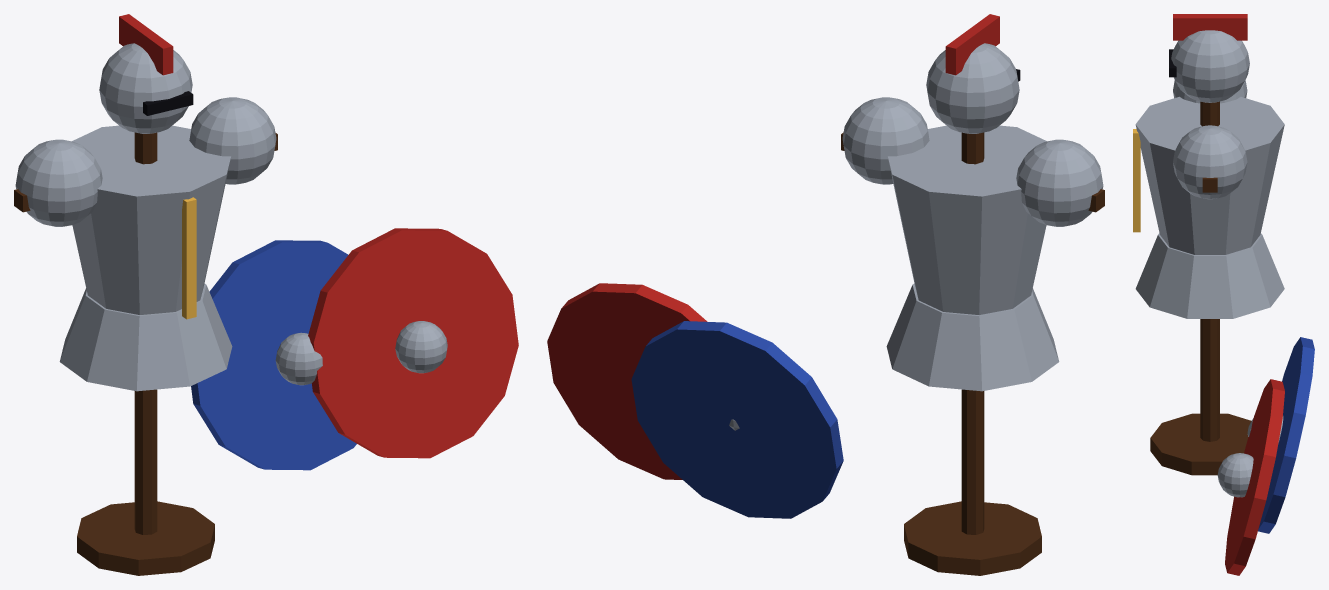
Rendered from shop_armor_yard.gltf.
3 views of the same model, side by side, from view 1: azimuth 30°, elevation 25°; view 2: azimuth 150°, elevation 25°; view 3: azimuth 270°, elevation 25° (orthographic). The views are drawn at different scales.
Parts seen in each view (by area): view 1: ShopArmorYardShopSteel, ShopArmorYardShopRed, ShopArmorYardShopBlue, ShopArmorYardShopWood, ShopArmorYardShopGold, ShopArmorYardShopIron; view 2: ShopArmorYardShopSteel, ShopArmorYardShopBlue, ShopArmorYardShopRed, ShopArmorYardShopWood; view 3: ShopArmorYardShopSteel, ShopArmorYardShopWood, ShopArmorYardShopRed, ShopArmorYardShopBlue, ShopArmorYardShopGold.
Boxes of the visible parts, x1,y1,x2,y2 form: ShopArmorYardShopSteel: [15, 43, 447, 391]; ShopArmorYardShopRed: [119, 14, 518, 458]; ShopArmorYardShopBlue: [191, 240, 356, 470]; ShopArmorYardShopWood: [14, 132, 277, 575]; ShopArmorYardShopGold: [182, 197, 196, 319]; ShopArmorYardShopIron: [143, 91, 193, 115]; ShopArmorYardShopSteel: [729, 43, 1103, 430]; ShopArmorYardShopBlue: [631, 321, 843, 518]; ShopArmorYardShopRed: [547, 14, 999, 479]; ShopArmorYardShopWood: [841, 132, 1104, 575]; ShopArmorYardShopSteel: [1135, 30, 1284, 497]; ShopArmorYardShopWood: [1150, 101, 1251, 475]; ShopArmorYardShopRed: [1173, 14, 1284, 575]; ShopArmorYardShopBlue: [1258, 337, 1314, 533]; ShopArmorYardShopGold: [1133, 129, 1140, 232].
Size of what is drawn, in the model's own units: 2.04 by 1.93 by 0.731.
